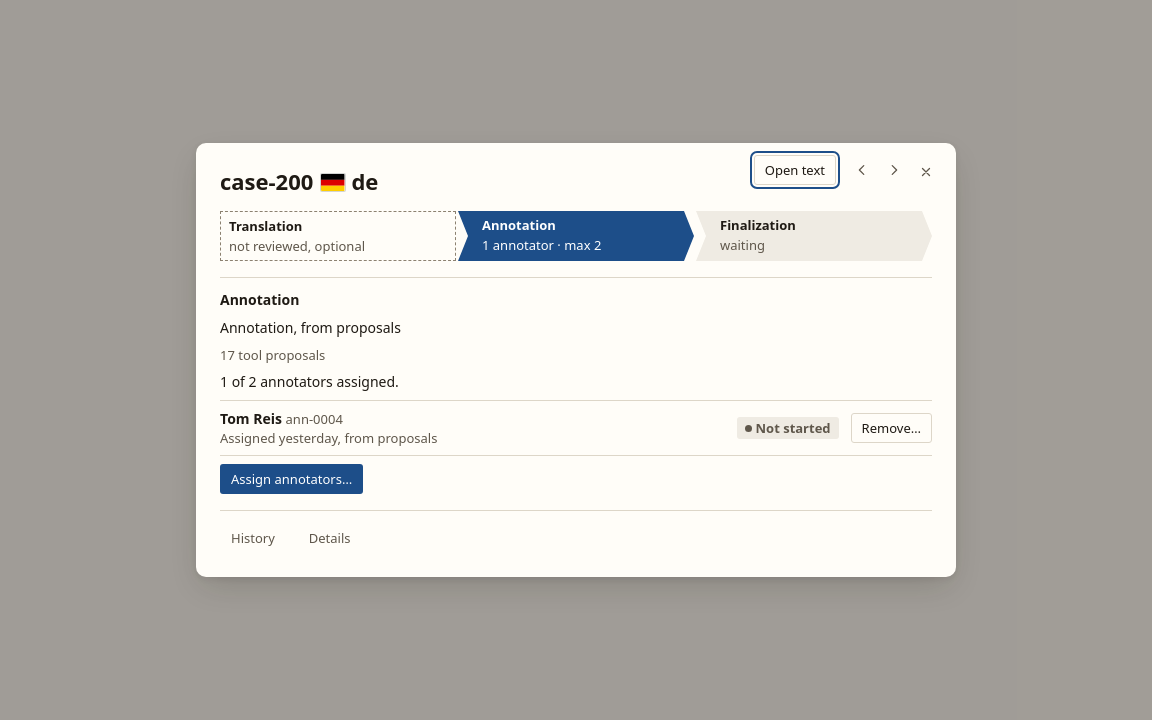
path › the path switches the part below
Click the button "Translation not reviewed, optional".
click(338, 236)  # box [220,211,456,261]
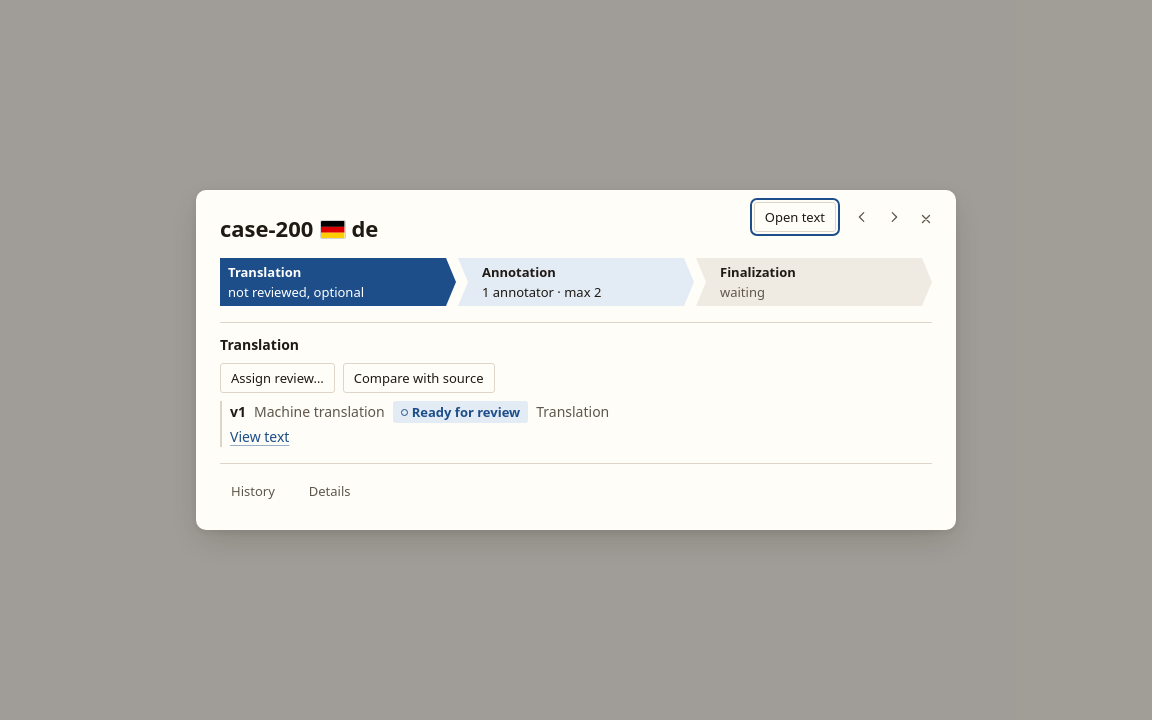
Expected: the heading "Translation" is shown, [220,335,299,355]
Click the button "Finalization waiting".
click(814, 282)  # box [696,258,932,306]
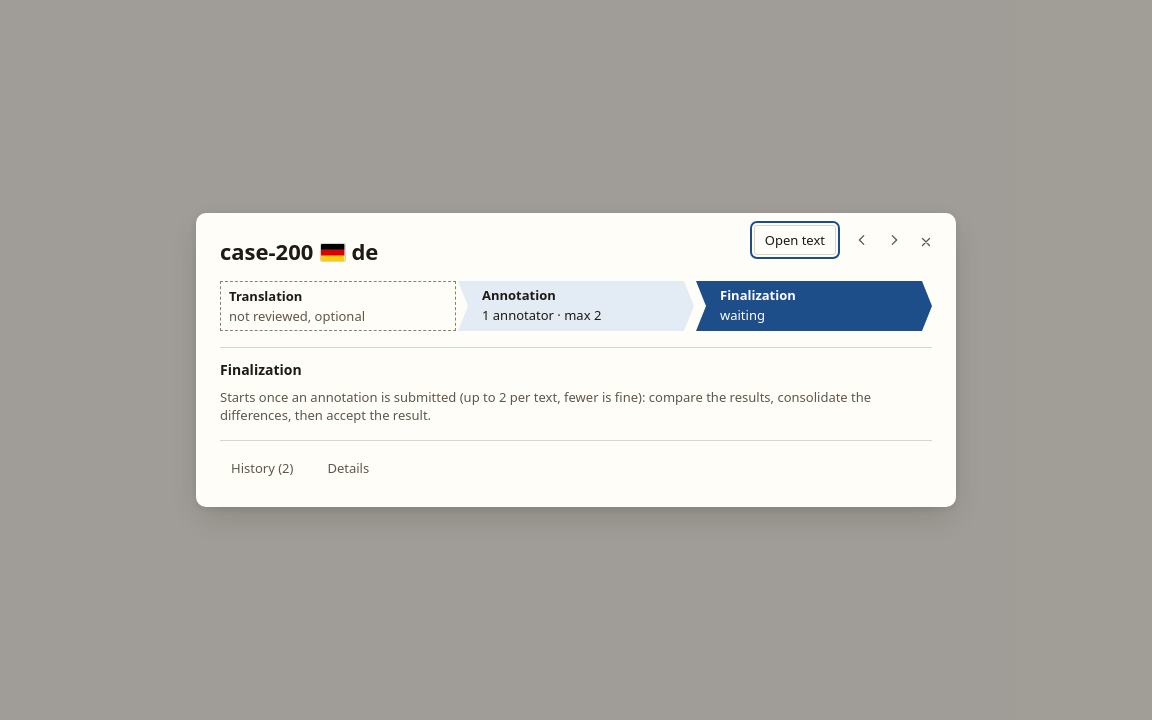
Expected: the text "Starts once an annotation is submitted (up to 2 per text, fewer is fine): compare the results, consolidate the differenc" is shown, [220,388,871,424]
